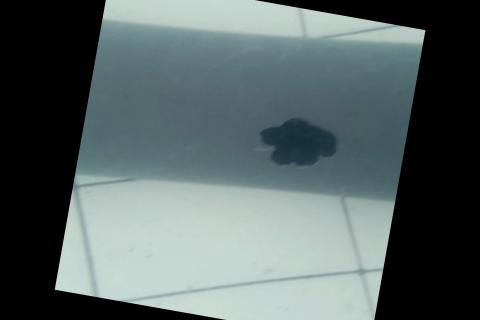kebocoran: (252, 108, 344, 174)
